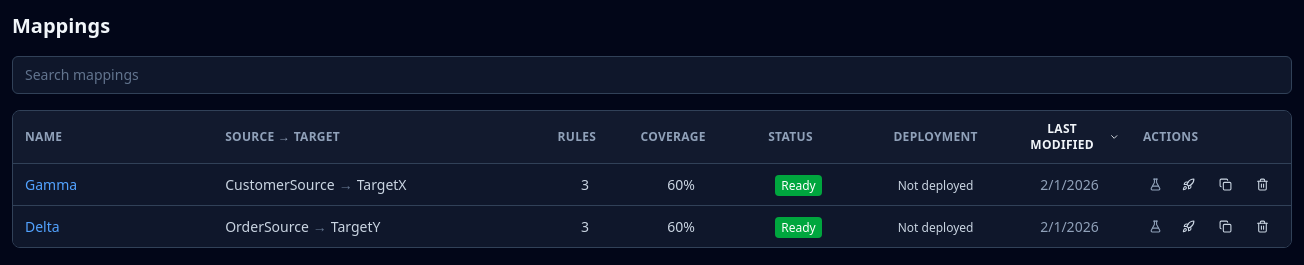
Test: MappingListSection › filters mappings by source/target schema search
The width and height of the screenshot is (1304, 265).
Type "customer" into the search field with test id "mappings-search-input".
click(652, 75); type("customer")  # box [12,56,1292,94]
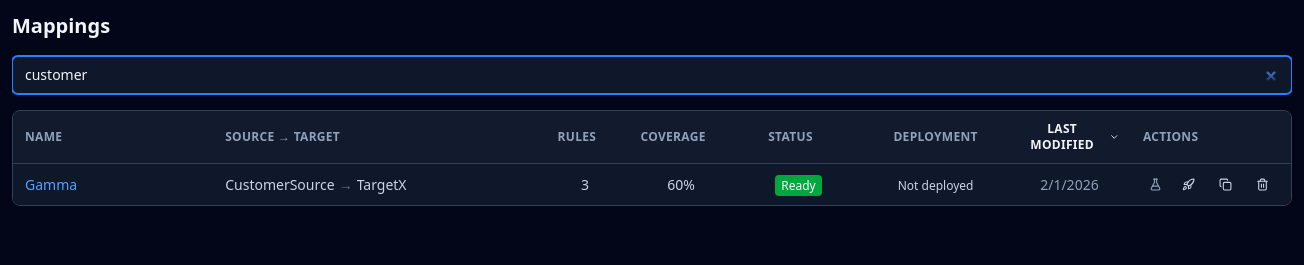
Expected: the link "Gamma" is shown, [25,174,77,194]
Now the link "Delta" is gone
